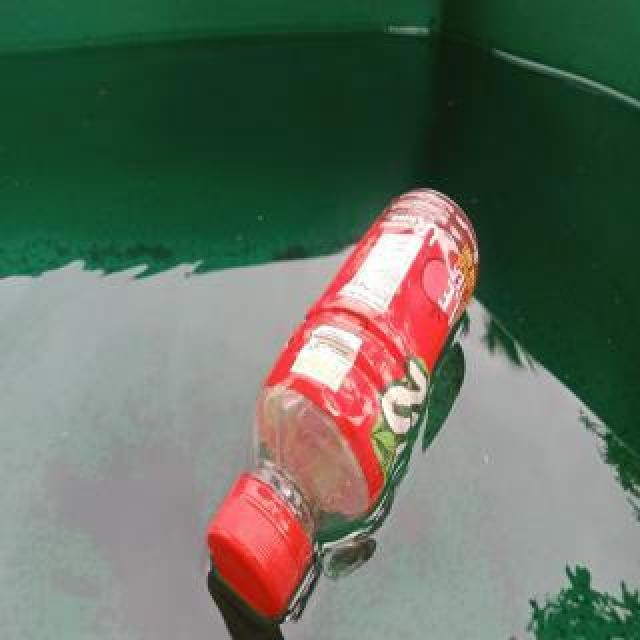bottle: (199, 186, 485, 620)
